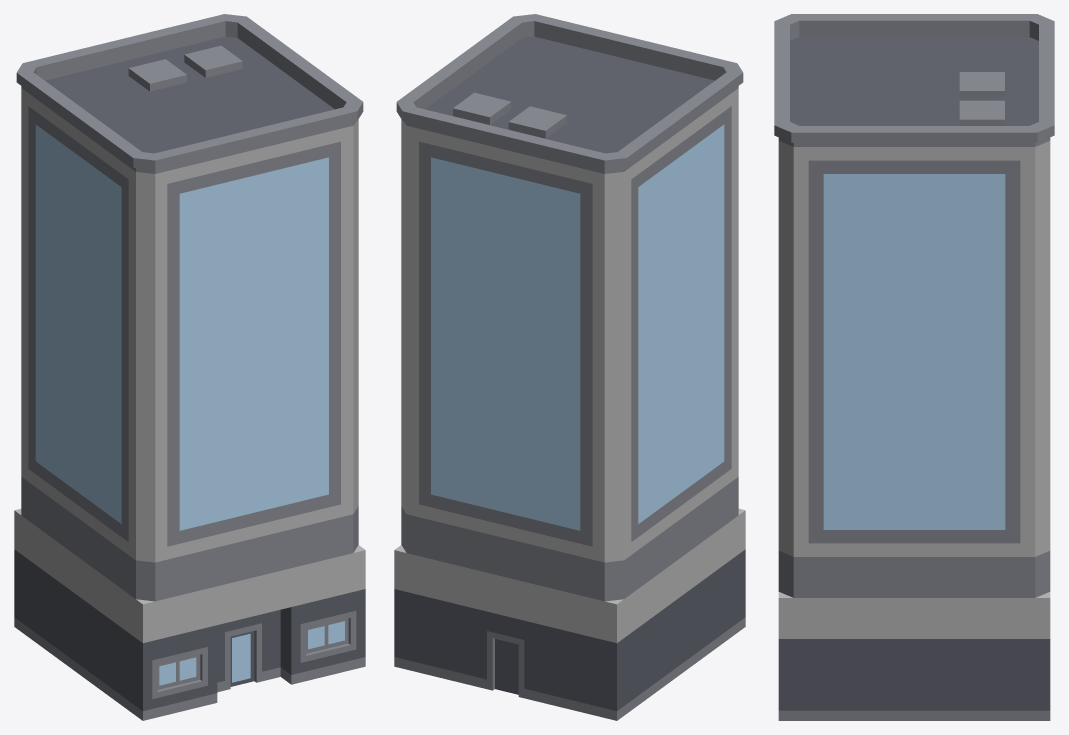
The model's file is Skyscraper A.glb.
3 views of the same model, side by side, from view 1: azimuth 30°, elevation 25°; view 2: azimuth 150°, elevation 25°; view 3: azimuth 270°, elevation 25° (orthographic). The views are drawn at different scales.
Parts seen in each view (by area): view 1: skyscraperA; view 2: skyscraperA; view 3: skyscraperA.
Part boxes in pixels (x1,y1,x2,y2): skyscraperA: [14, 14, 365, 720]; skyscraperA: [394, 14, 745, 720]; skyscraperA: [774, 14, 1054, 720].
Bounding box in the file's own units: 1.24 × 2.88 × 1.24.
